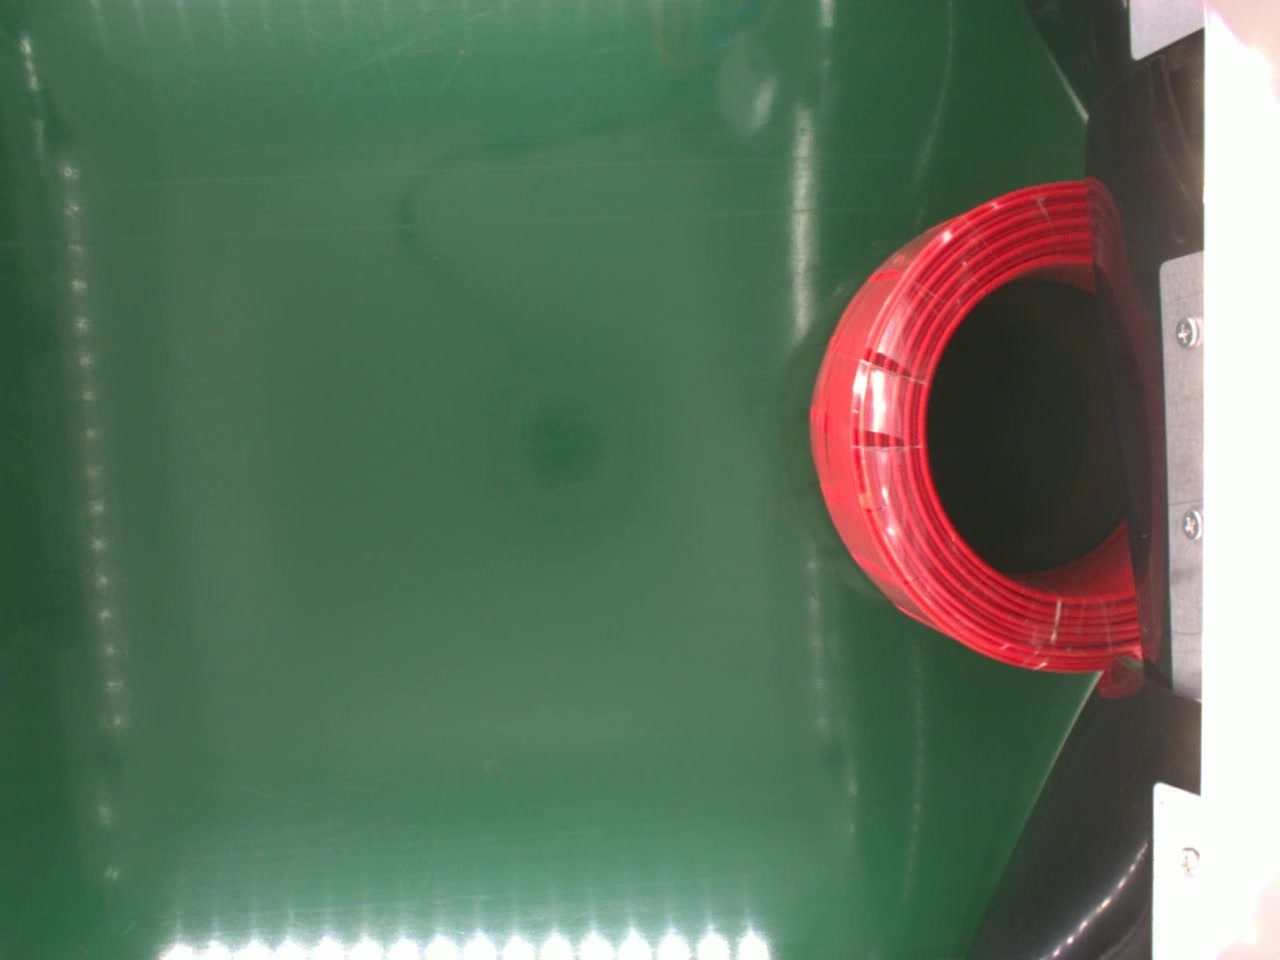red: (806, 176, 1146, 671)
